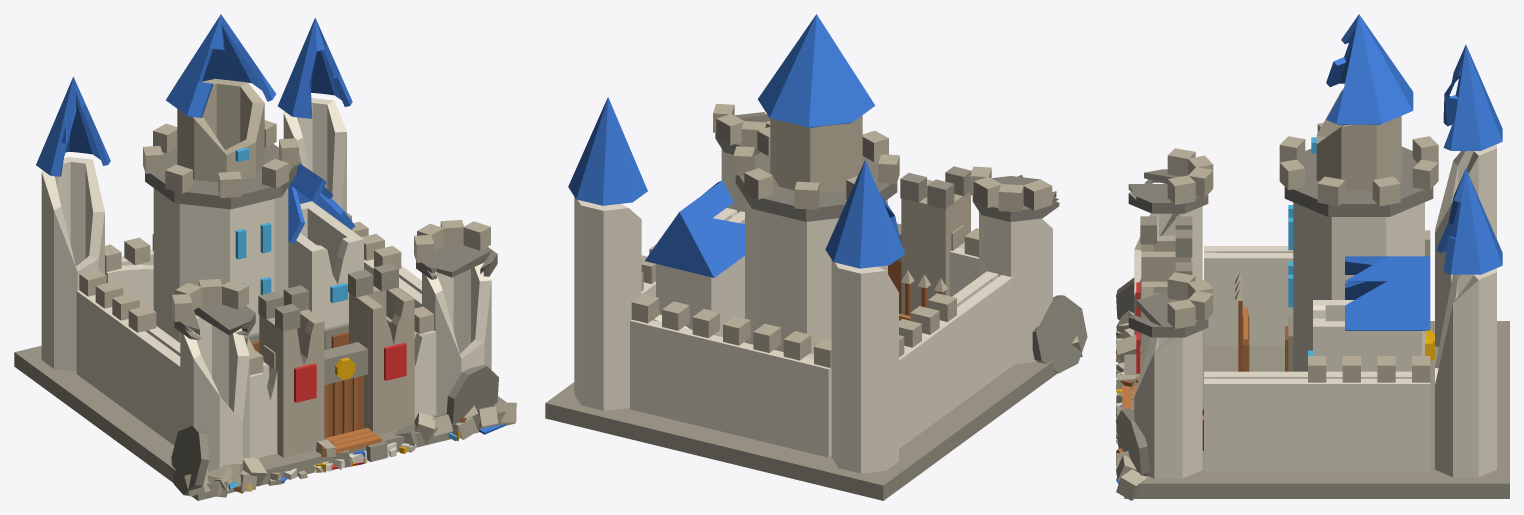
Rendered from castle_v3_dmg1.glb.
3 renders of one model, left to right at view 1: azimuth 30°, elevation 25°; view 2: azimuth 150°, elevation 25°; view 3: azimuth 270°, elevation 25°, orthographic. The views are drawn at different scales.
Visible parts, largest first — view 1: castle_v3_dmg1; view 2: castle_v3_dmg1; view 3: castle_v3_dmg1.
Part boxes in pixels (x1,y1,x2,y2): castle_v3_dmg1: (14,14,516,500); castle_v3_dmg1: (545,14,1087,500); castle_v3_dmg1: (1116,14,1509,500).
Size of the model in its own units: 0.9581 by 1.03 by 0.94.
1 material, 1 textured.
